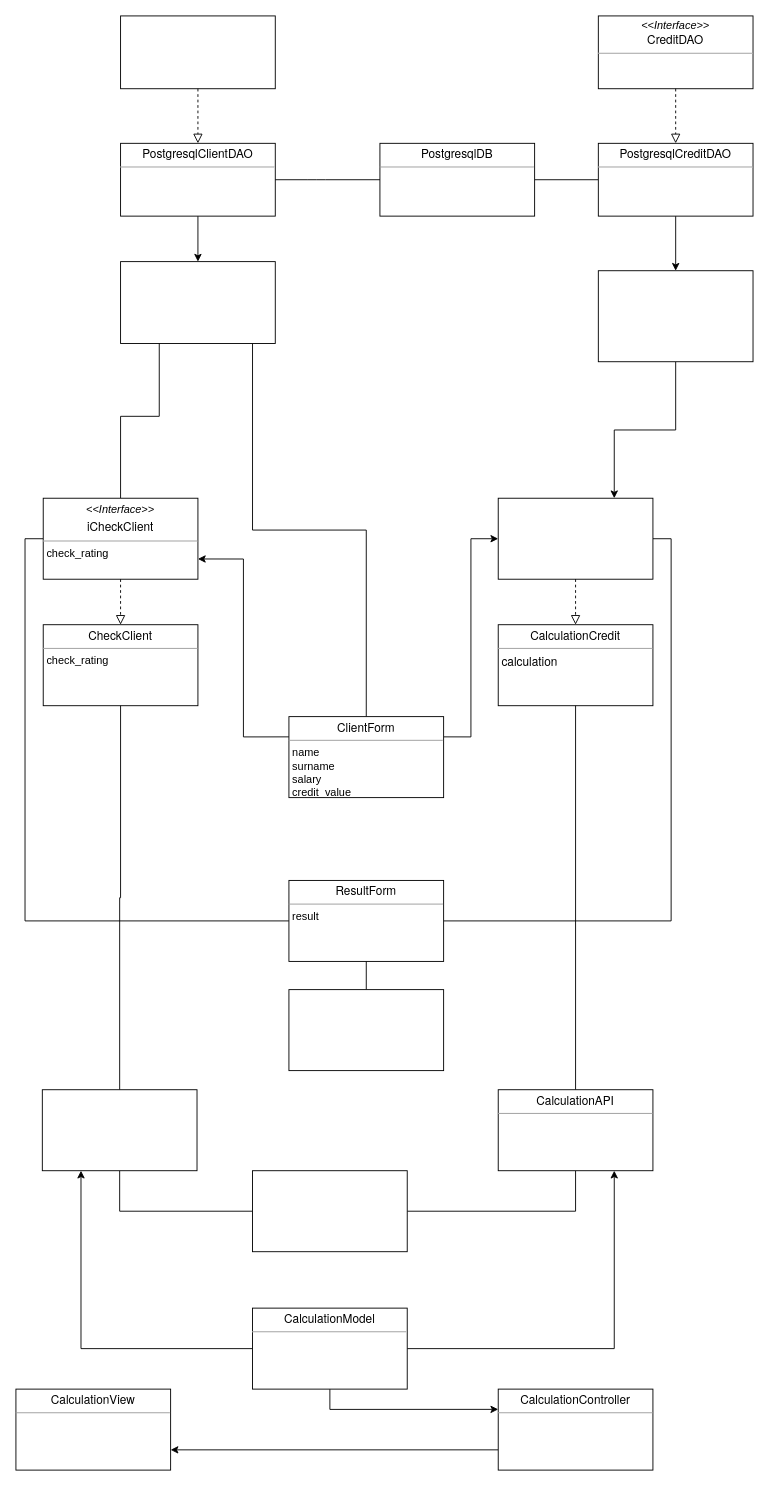
This 769x1486 diagram has some shape labels left out. The shapes that lost their labels are listed below. From the top down, each one's centre as x and y in pixels, then its label:
the point at 197,52: <<Interface>> ClientDAO
the point at 197,302: Client id name surname f_bad_rating
the point at 675,316: C redit id min_salary max_credit_value percent
the point at 575,538: <<Interface>> i CalculationCredit calculation
the point at 366,1030: main
the point at 119,1130: CheckAPI
the point at 329,1211: RestAPI
